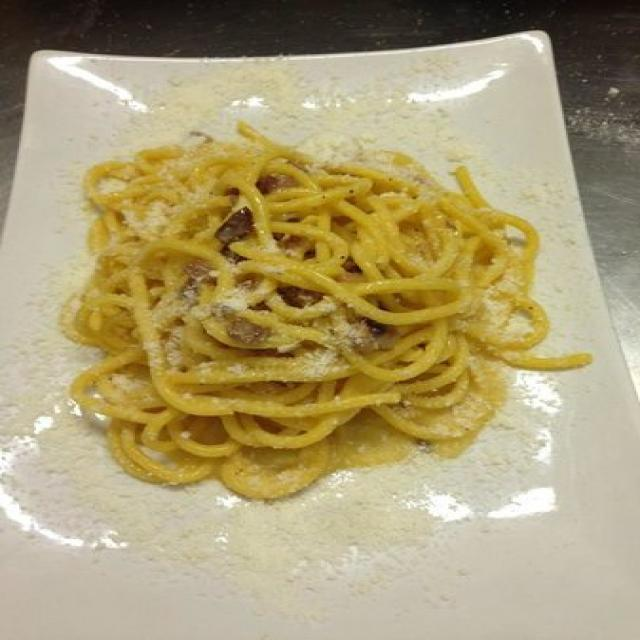Pasta with carbonara sauce: (47, 85, 567, 527)
